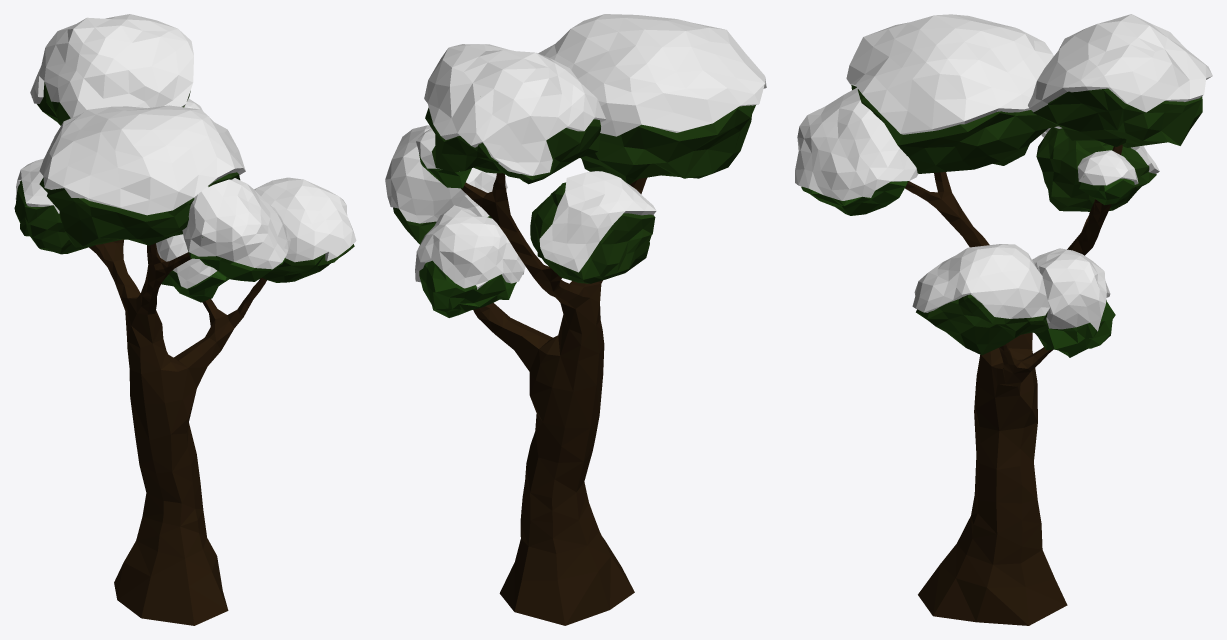
The model's file is common_tree_3_snow.glb.
3 renders of one model, left to right at view 1: azimuth 30°, elevation 25°; view 2: azimuth 150°, elevation 25°; view 3: azimuth 270°, elevation 25°, orthographic. The views are drawn at different scales.
Visible parts, largest first — view 1: common_tree_3_snow_snow, common_tree_3_snow_trunk, common_tree_3_snow_leaves_dark, common_tree_3_snow_leaves; view 2: common_tree_3_snow_snow, common_tree_3_snow_trunk, common_tree_3_snow_leaves_dark, common_tree_3_snow_leaves; view 3: common_tree_3_snow_snow, common_tree_3_snow_trunk, common_tree_3_snow_leaves_dark, common_tree_3_snow_leaves.
Part boxes in pixels (<box>): common_tree_3_snow_snow: <box>15,14,356,288</box>; common_tree_3_snow_trunk: <box>89,239,266,625</box>; common_tree_3_snow_leaves_dark: <box>14,82,354,282</box>; common_tree_3_snow_leaves: <box>161,237,285,302</box>; common_tree_3_snow_snow: <box>385,14,766,289</box>; common_tree_3_snow_trunk: <box>461,173,646,625</box>; common_tree_3_snow_leaves_dark: <box>393,105,755,283</box>; common_tree_3_snow_leaves: <box>419,153,516,317</box>; common_tree_3_snow_snow: <box>795,14,1212,331</box>; common_tree_3_snow_trunk: <box>905,144,1122,625</box>; common_tree_3_snow_leaves_dark: <box>851,85,1202,355</box>; common_tree_3_snow_leaves: <box>801,178,1134,357</box>.
Size of the model in its own units: 3.73 by 6.1 by 4.04.
